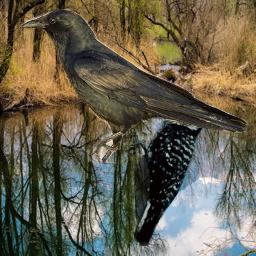Crow: (17, 8, 249, 164)
Woodpecker: (123, 93, 213, 246)
